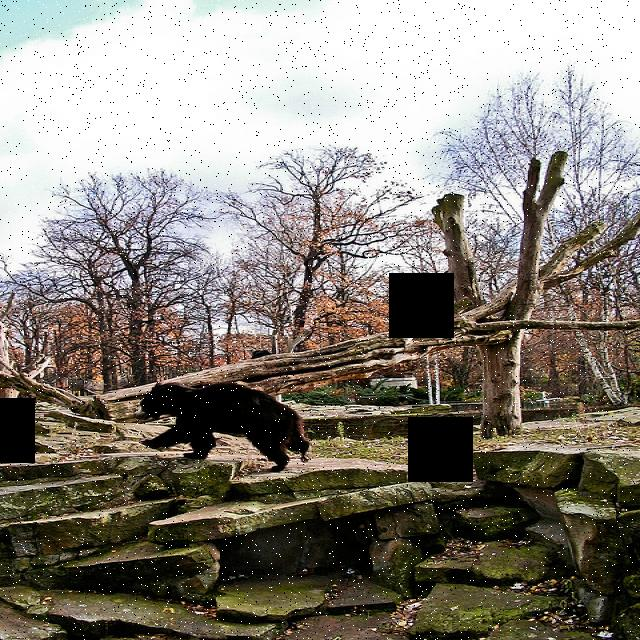Bear: (135, 374, 324, 466)
